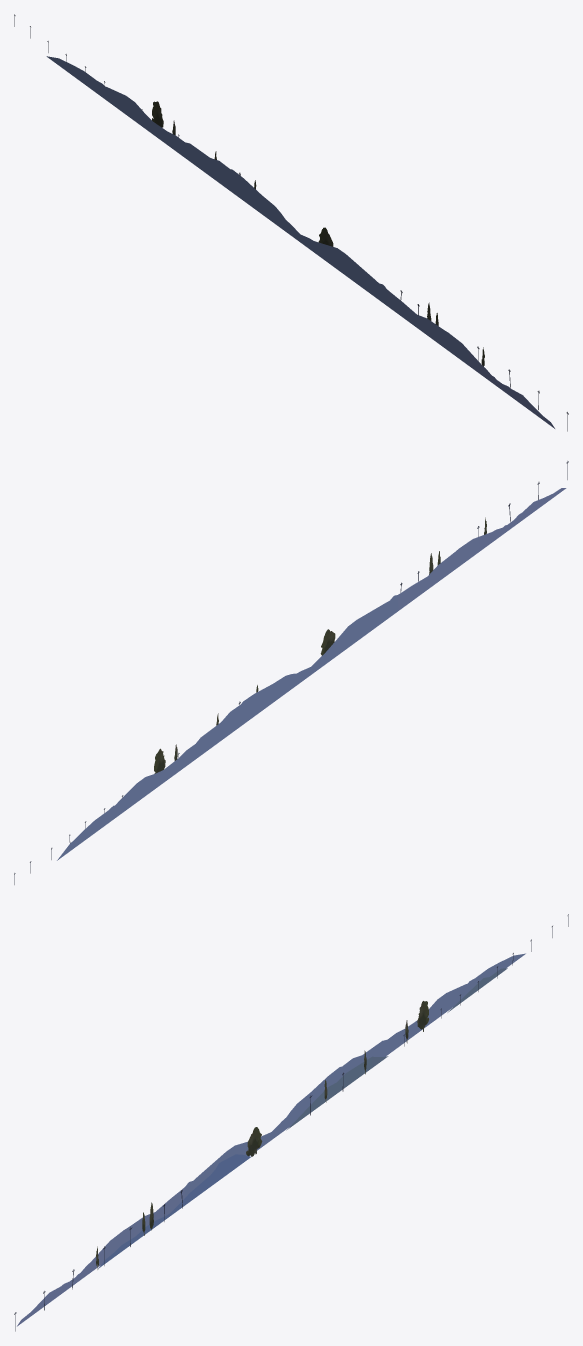
3 views of the same model, one above another, from view 1: azimuth 30°, elevation 25°; view 2: azimuth 150°, elevation 25°; view 3: azimuth 330°, elevation 25° (orthographic).
Visible parts, largest first — view 1: body0_model0_lod0_mesh0; view 2: body0_model0_lod0_mesh0; view 3: body0_model0_lod0_mesh0.
Boxes of the visible parts, box(x1,y1,x2,y2) form: body0_model0_lod0_mesh0: box(14, 14, 568, 431); body0_model0_lod0_mesh0: box(14, 461, 568, 884); body0_model0_lod0_mesh0: box(14, 914, 568, 1331).
Size of the model in its own units: 10.95 by 63.55 by 1950.
Materials: 1 (1 with a texture image).
